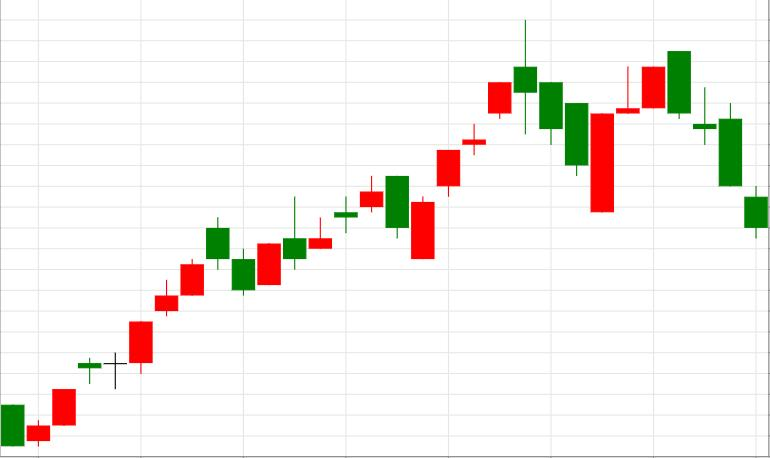bearish_engulfing_fall: (591, 52, 690, 212)
